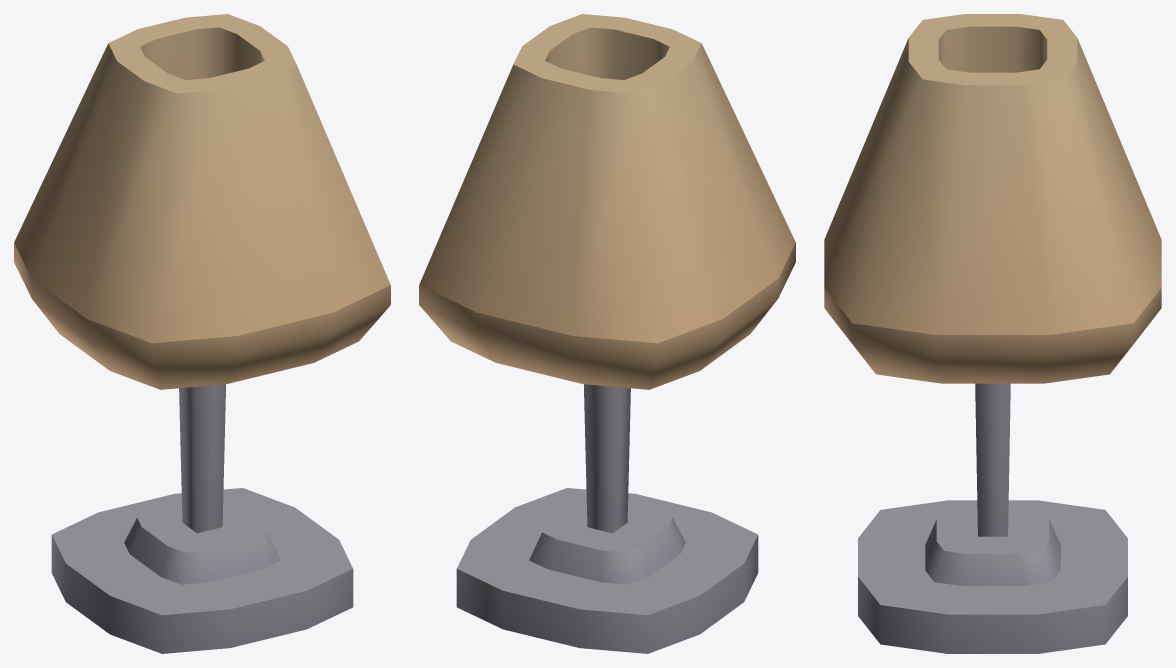
File: lamp-standard-table-detailed.glb
3 renders of one model, left to right at view 1: azimuth 30°, elevation 25°; view 2: azimuth 150°, elevation 25°; view 3: azimuth 270°, elevation 25°, orthographic. The views are drawn at different scales.
Visible parts, largest first — view 1: lamp-standard-table-detailed; view 2: lamp-standard-table-detailed; view 3: lamp-standard-table-detailed.
Part boxes in pixels (x1,y1,x2,y2): lamp-standard-table-detailed: [14, 14, 390, 653]; lamp-standard-table-detailed: [419, 14, 795, 653]; lamp-standard-table-detailed: [824, 14, 1161, 653].
Size of the model in its own units: 0.2812 by 0.5031 by 0.2812.
